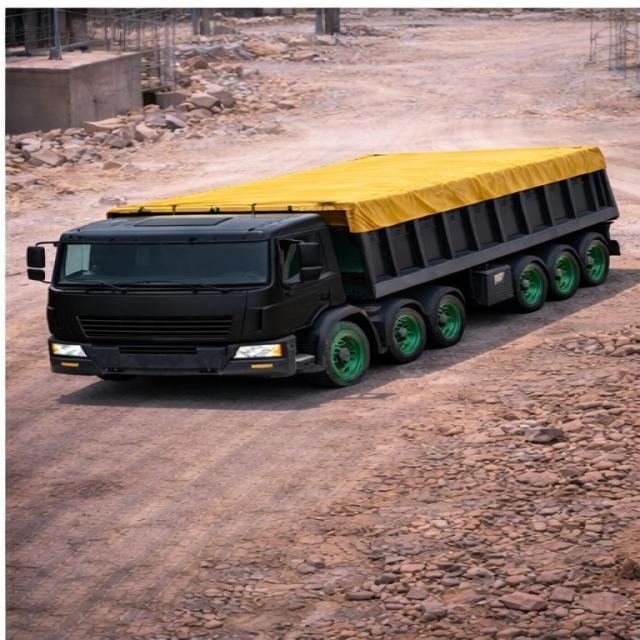trailer: (116, 152, 598, 222)
truck: (35, 131, 609, 410)
